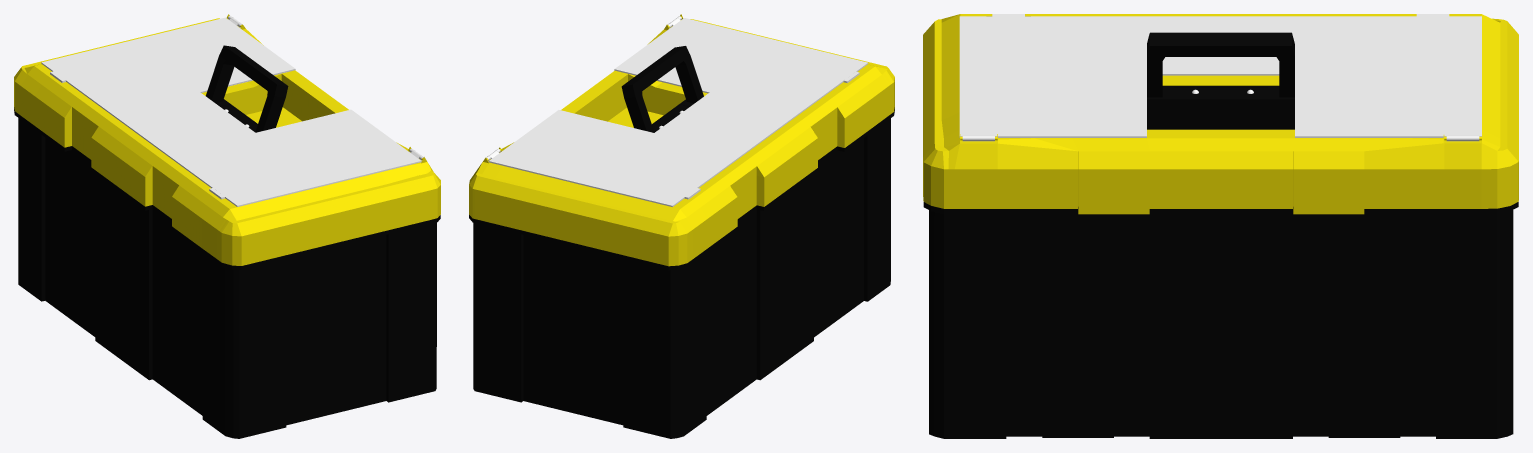
Rendered from uploads_files_3139032_toolbox.fbx.
3 views of the same model, side by side, from view 1: azimuth 30°, elevation 25°; view 2: azimuth 150°, elevation 25°; view 3: azimuth 270°, elevation 25° (orthographic). The views are drawn at different scales.
Visible parts, largest first — view 1: Cube, Cube.001, Plane, Cube.002; view 2: Cube, Cube.001, Plane, Cube.002; view 3: Cube, Cube.001, Plane, Cube.003, Cube.002.
Part boxes in pixels (left/top/right/bottom): Cube: left=14, top=107, right=440, bottom=438; Cube.001: left=14, top=14, right=440, bottom=265; Plane: left=41, top=15, right=423, bottom=206; Cube.002: left=206, top=45, right=288, bottom=132; Cube: left=469, top=107, right=894, bottom=438; Cube.001: left=469, top=14, right=894, bottom=266; Plane: left=486, top=16, right=868, bottom=206; Cube.002: left=621, top=46, right=703, bottom=132; Cube: left=923, top=202, right=1518, bottom=438; Cube.001: left=923, top=14, right=1518, bottom=214; Plane: left=959, top=14, right=1481, bottom=141; Cube.003: left=1147, top=86, right=1294, bottom=129; Cube.002: left=1147, top=32, right=1294, bottom=97.
Bounding box in the file's own units: 177 × 207 × 314.
